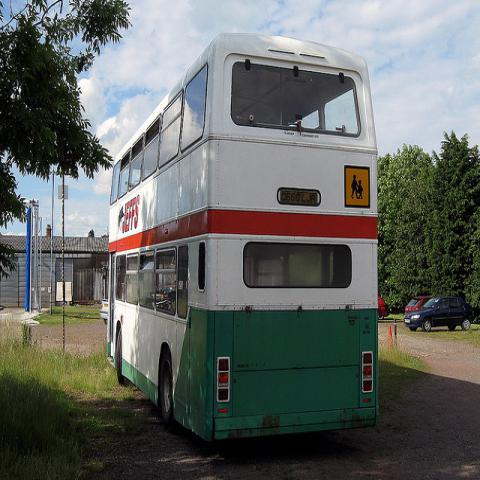bus: (104, 36, 375, 442)
car: (403, 296, 478, 333), (405, 296, 432, 314), (376, 294, 388, 326), (100, 298, 108, 325)
